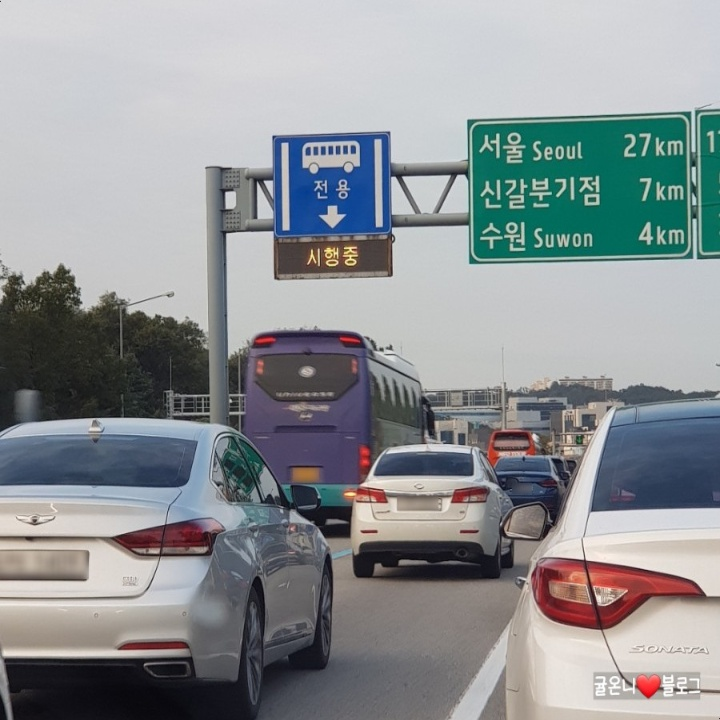bus: (291, 135, 366, 176)
